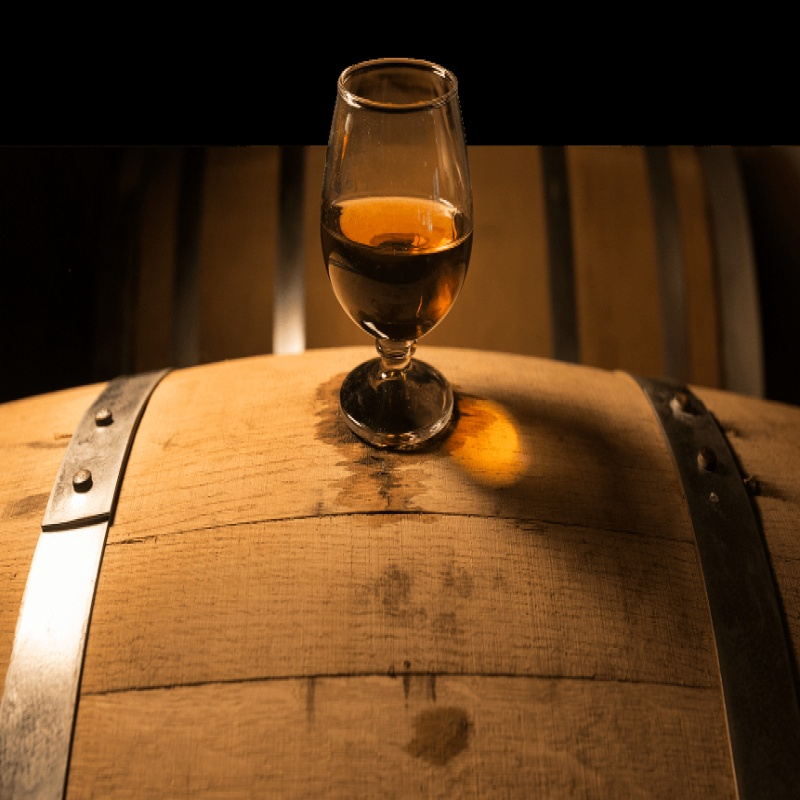whiskey: (311, 48, 487, 455)
